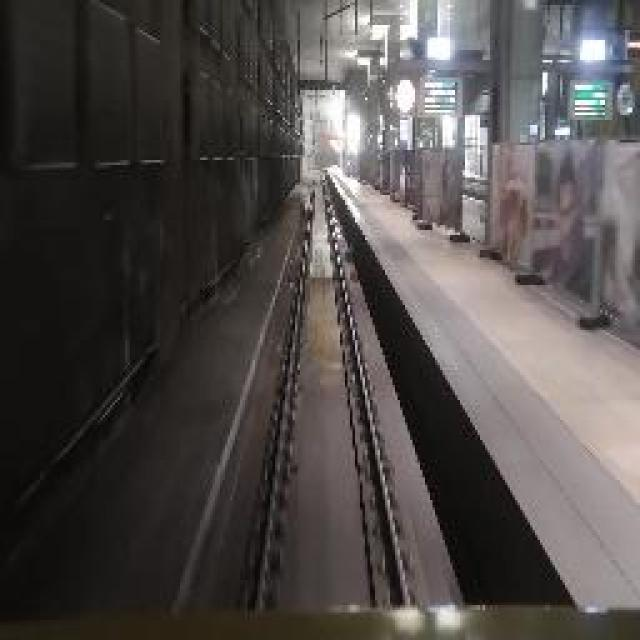rail: (220, 167, 448, 609)
